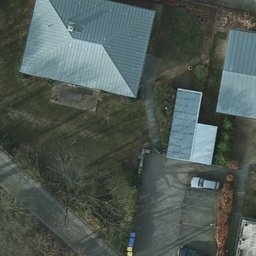car: (188, 177, 222, 191), (177, 241, 211, 255)
